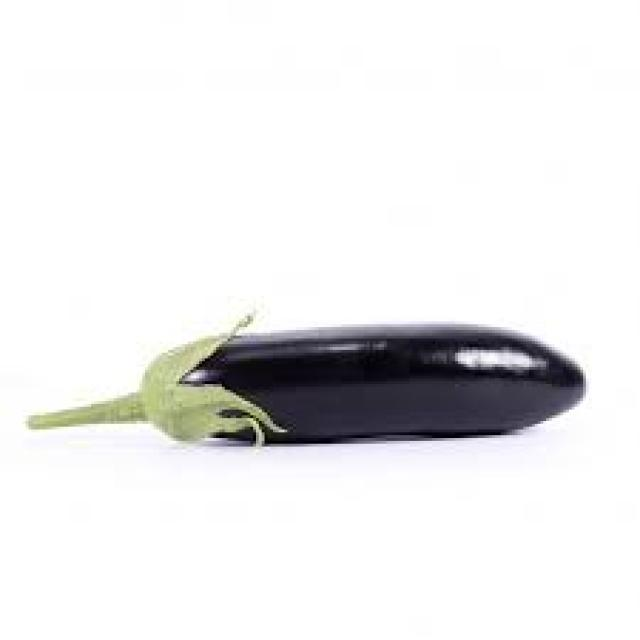eggplant: (122, 321, 592, 441)
